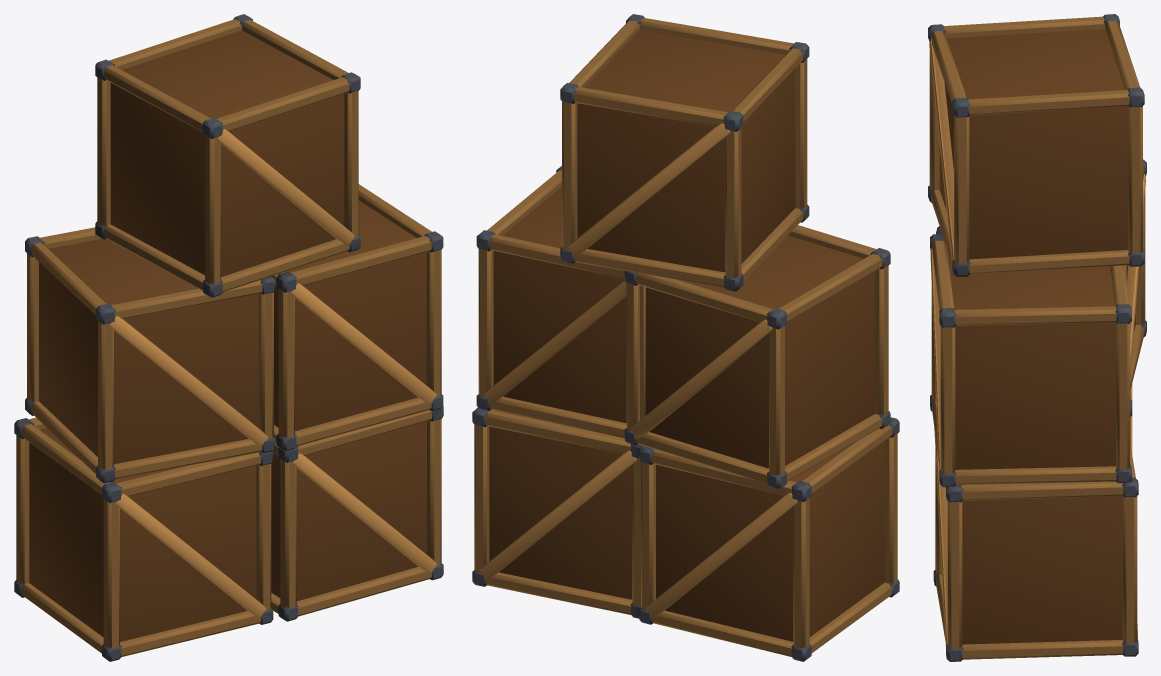
File: bl_crates.glb
3 views of the same model, side by side, from view 1: azimuth 30°, elevation 25°; view 2: azimuth 150°, elevation 25°; view 3: azimuth 270°, elevation 25° (orthographic).
Parts seen in each view (by area): view 1: crates; view 2: crates; view 3: crates.
Part boxes in pixels (x1,y1,x2,y2): crates: [14, 14, 443, 661]; crates: [472, 14, 899, 661]; crates: [928, 14, 1146, 661].
Bounding box in the file's own units: 1.49 × 2.18 × 0.8314.
